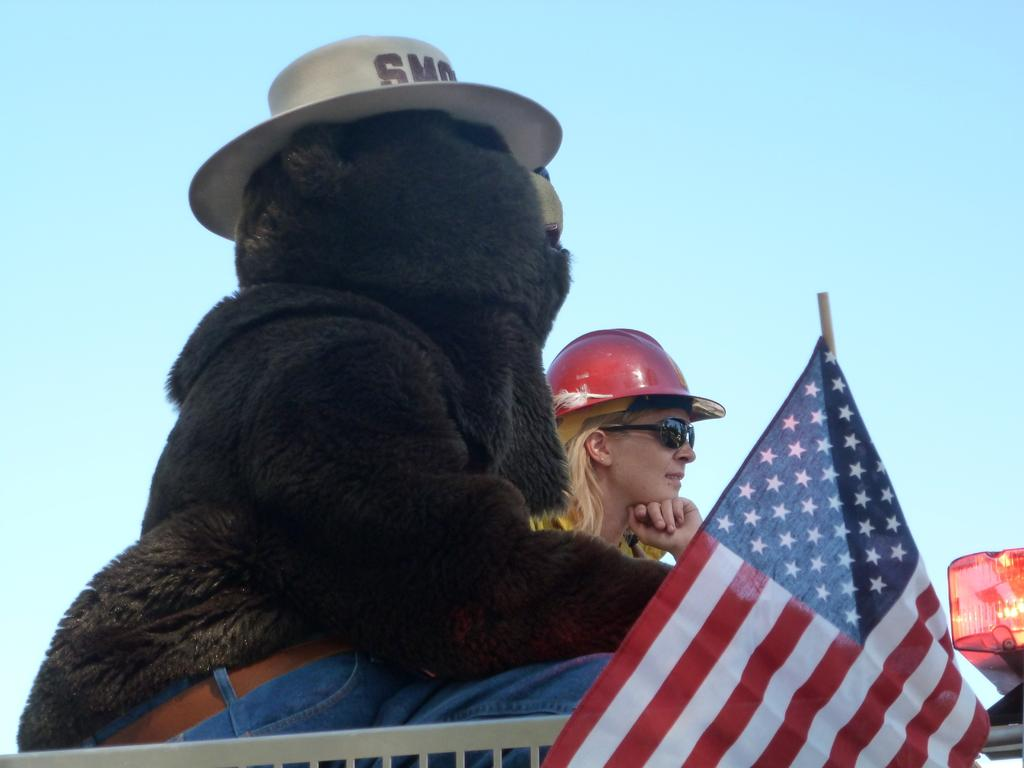Hat: (182, 33, 560, 244)
